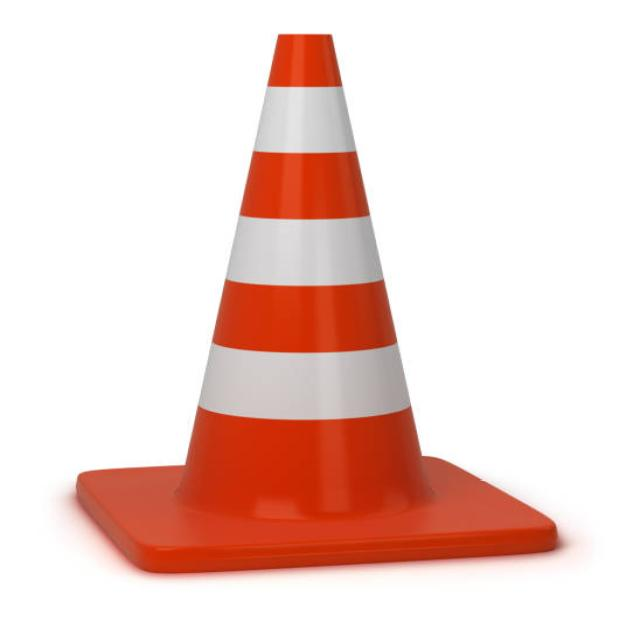Traffic Cone: (58, 3, 574, 594)
